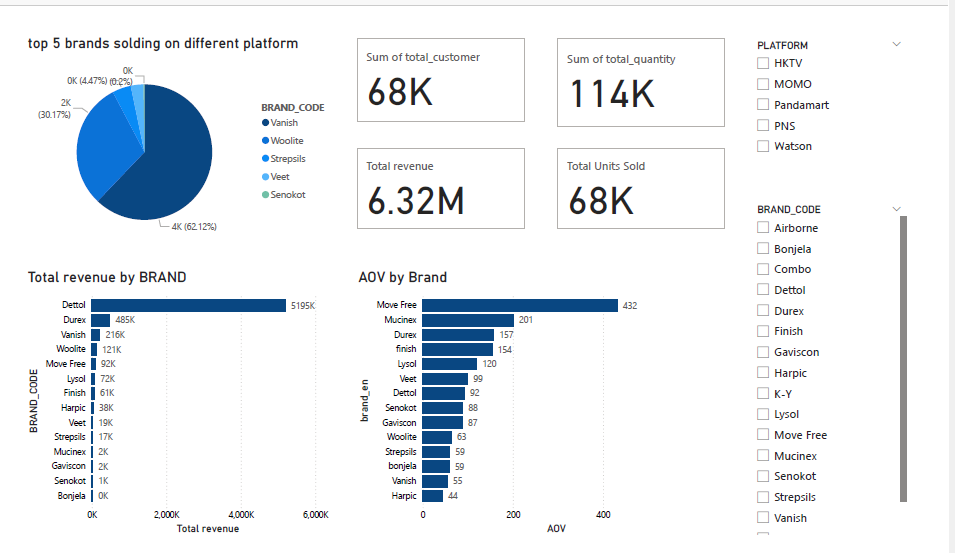

This screenshot's page, from the dashboard's own definition file:
{"tool":"powerbi","page":{"name":"Page 1","canvas":[1280,720],"ordinal":0},"visuals":[{"type":"cardVisual","fields":{"Data":["Sellout.Total revenue"]},"box":[472,169.8,244.9,123.4],"z":0},{"type":"cardVisual","fields":{"Data":["Sellout.Total Units Sold"]},"box":[752.6,169.8,243.1,123.4],"z":1000},{"type":"barChart","title":"Total revenue by BRAND","fields":{"Category":["bridge table.BRAND_CODE"],"Y":["Sellout.Total revenue"]},"box":[10.7,343.2,443.4,377.2],"z":2000},{"type":"pieChart","title":"top 5 brands solding on different platform ","fields":{"Category":["bridge table.BRAND_CODE","Master.PLATFORM"],"Y":["Sellout.Total Units Sold"]},"box":[10.7,16.1,443.4,305.7],"z":3000},{"type":"slicer","fields":{"Values":["Master.PLATFORM"]},"box":[1024.4,17.9,227,214.5],"z":3001},{"type":"barChart","title":"AOV by Brand","fields":{"Y":["Sellout.AOV"],"Category":["Sellout.brand_en"]},"box":[473.7,343.2,484.5,377.2],"z":3002},{"type":"cardVisual","fields":{"Data":["Sum(Sellout.total_quantity)"]},"box":[752.6,16.1,243.1,134.1],"z":3003},{"type":"cardVisual","fields":{"Data":["Sum(Sellout.total_customer)"]},"box":[472,16.1,244.9,126.9],"z":3004},{"type":"slicer","fields":{"Values":["bridge table.BRAND_CODE"]},"box":[1024.4,248.5,227,472],"z":3005}]}

Visuals, with their boxes in screenshot pixels (x1, y1, x2, y2), scaled from the page's 1280x720 canvas onto the 955x553 screenshot:
cardVisual - Sellout.Total revenue: 352:130:535:225
cardVisual - Sellout.Total Units Sold: 562:130:743:225
"Total revenue by BRAND" barChart: 8:264:339:552
"top 5 brands solding on different platform " pieChart: 8:12:339:247
slicer - Master.PLATFORM: 764:14:934:178
"AOV by Brand" barChart: 353:264:715:552
cardVisual - Sum(Sellout.total_quantity): 562:12:743:115
cardVisual - Sum(Sellout.total_customer): 352:12:535:110
slicer - bridge table.BRAND_CODE: 764:191:934:552
